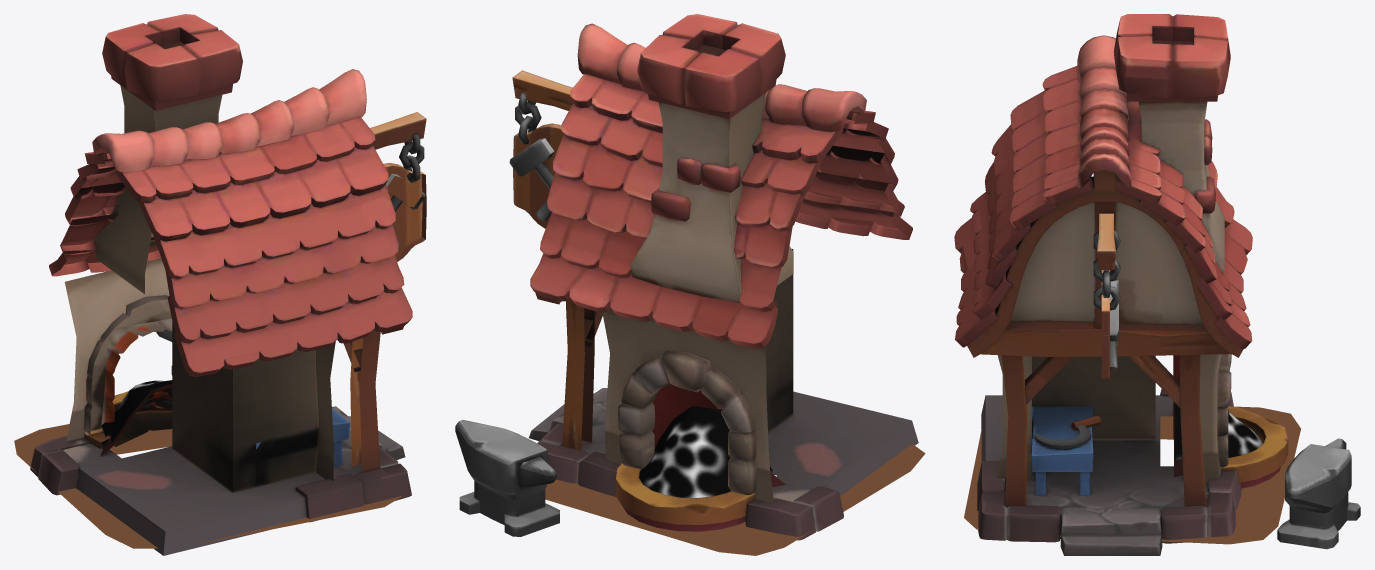
The model's file is Blacksmith.fbx.
The picture shows the model from 3 angles, left to right: view 1: azimuth 30°, elevation 25°; view 2: azimuth 150°, elevation 25°; view 3: azimuth 270°, elevation 25°; orthographic projection. The views are drawn at different scales.
Visible parts, largest first — view 1: BlacksmithMain, FarmerHouseShadow006 (1), vfx_blacksmithglow_00; view 2: BlacksmithMain, FarmerHouseShadow006 (1), vfx_blacksmithglow_00; view 3: BlacksmithMain, FarmerHouseShadow006 (1), vfx_blacksmithglow_00.
Part boxes in pixels (x1,y1,x2,y2): BlacksmithMain: (30,14,426,555); FarmerHouseShadow006 (1): (14,424,401,548); vfx_blacksmithglow_00: (101,380,172,442); BlacksmithMain: (455,14,918,540); FarmerHouseShadow006 (1): (545,444,925,555); vfx_blacksmithglow_00: (639,406,772,497); BlacksmithMain: (954,14,1360,555); FarmerHouseShadow006 (1): (964,406,1300,544); vfx_blacksmithglow_00: (1174,381,1262,460).
Bounding box in the file's own units: 4.17 × 4.88 × 4.14.
